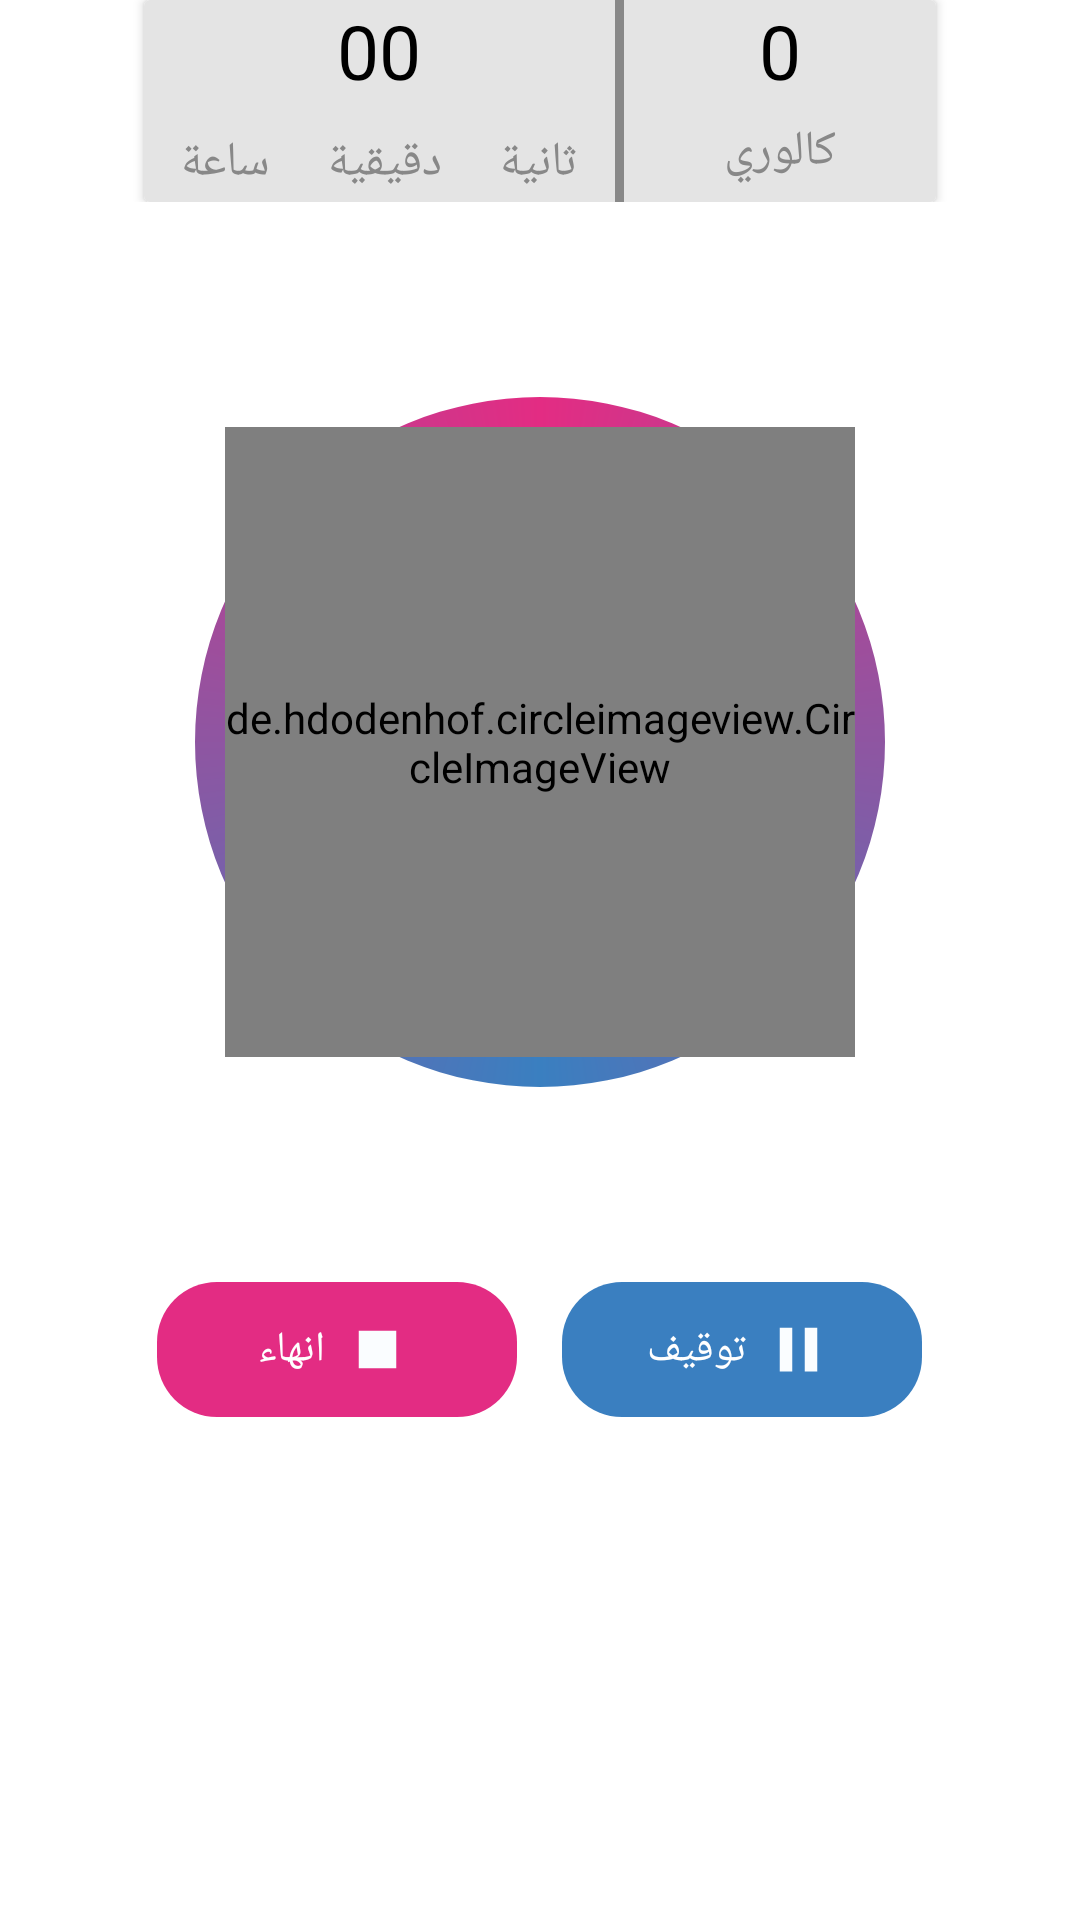

Where to tap for icons on this 1080x1920 app screen, as point (x, y):
stop: point (377, 1349)
